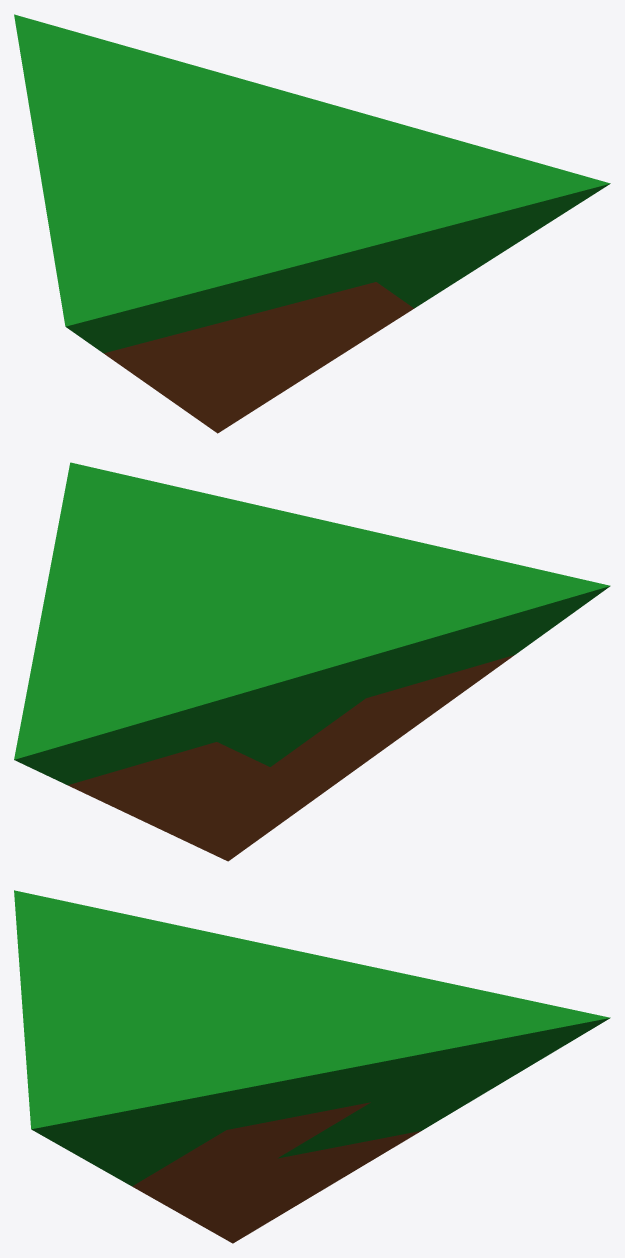
File: Platform04.fbx
3 renders of one model, top to bottom at view 1: azimuth 30°, elevation 25°; view 2: azimuth 150°, elevation 25°; view 3: azimuth 270°, elevation 25°, orthographic. The views are drawn at different scales.
Parts seen in each view (by area): view 1: Cone.002; view 2: Cone.002; view 3: Cone.002.
Part boxes in pixels (x1,y1,x2,y2): Cone.002: (14, 14, 610, 433); Cone.002: (14, 462, 610, 861); Cone.002: (14, 890, 610, 1243).
Size of the model in its own units: 472 by 216 by 497.
